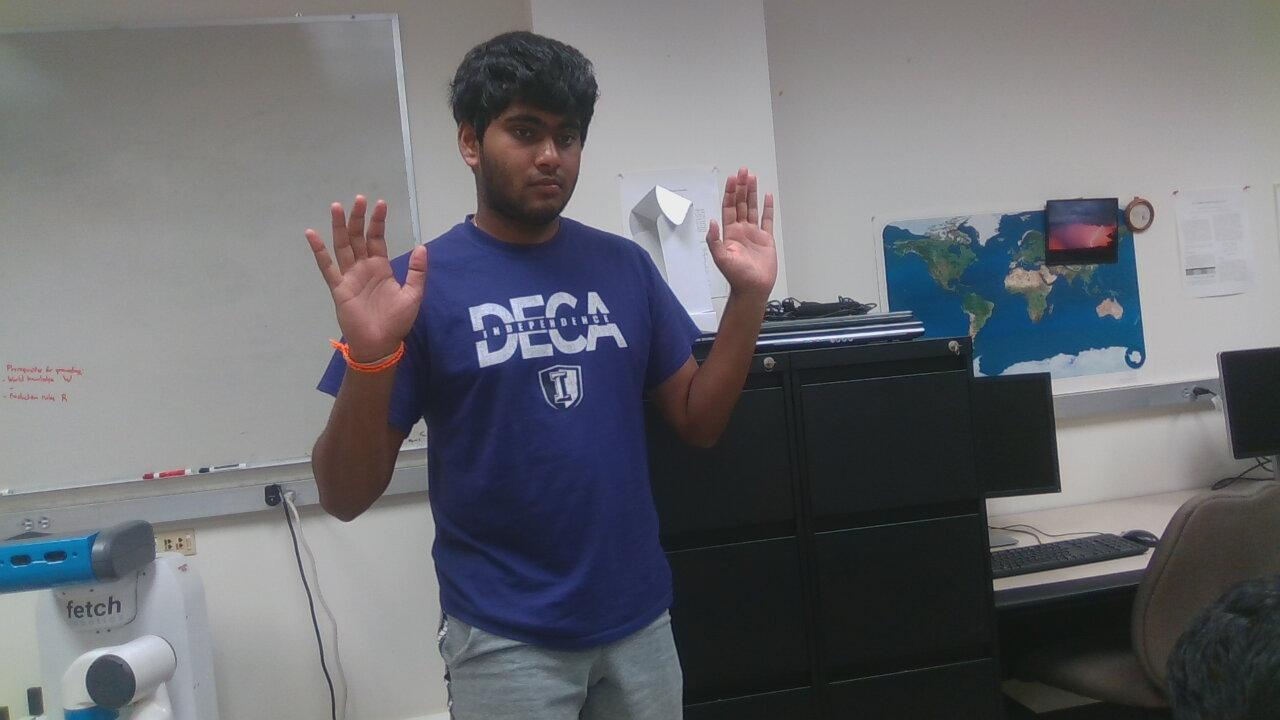hands: (308, 187, 444, 358), (681, 159, 800, 306)
